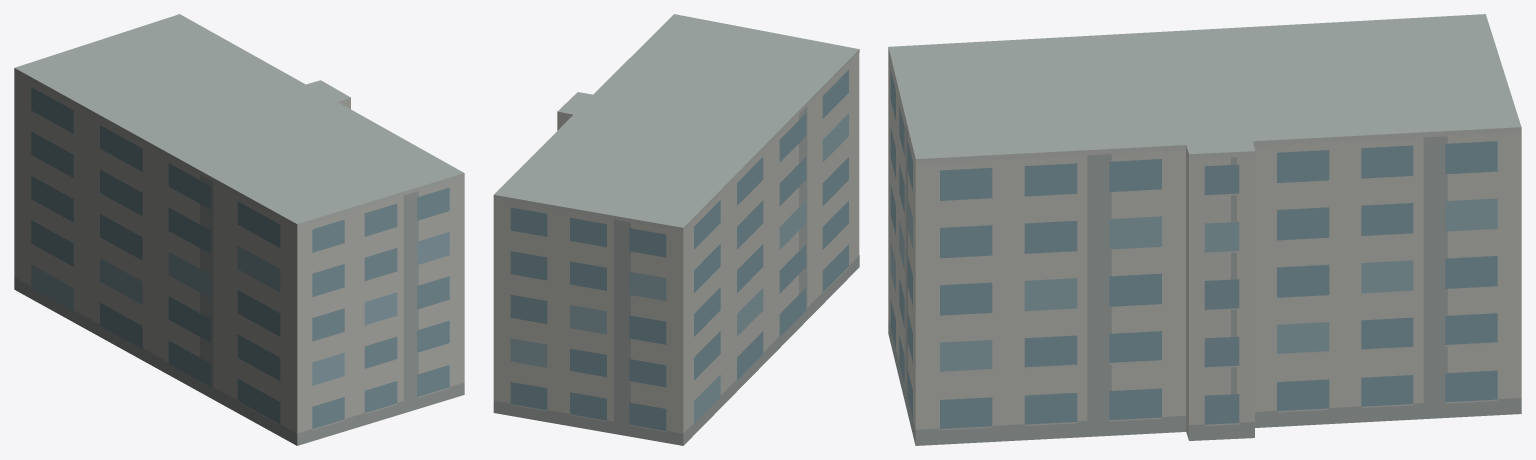
The model's file is survey-upis-32681823.glb.
The picture shows the model from 3 angles, left to right: view 1: azimuth 30°, elevation 25°; view 2: azimuth 150°, elevation 25°; view 3: azimuth 270°, elevation 25°; orthographic projection. The views are drawn at different scales.
Visible parts, largest first — view 1: survey-upis-32681823.tmp; view 2: survey-upis-32681823.tmp; view 3: survey-upis-32681823.tmp.
Boxes of the visible parts, left/top/right/bottom form: survey-upis-32681823.tmp: left=14, top=14, right=464, bottom=445; survey-upis-32681823.tmp: left=493, top=14, right=859, bottom=445; survey-upis-32681823.tmp: left=888, top=14, right=1521, bottom=445.
Size of the model in its own units: 14.8 by 13.63 by 27.28.
